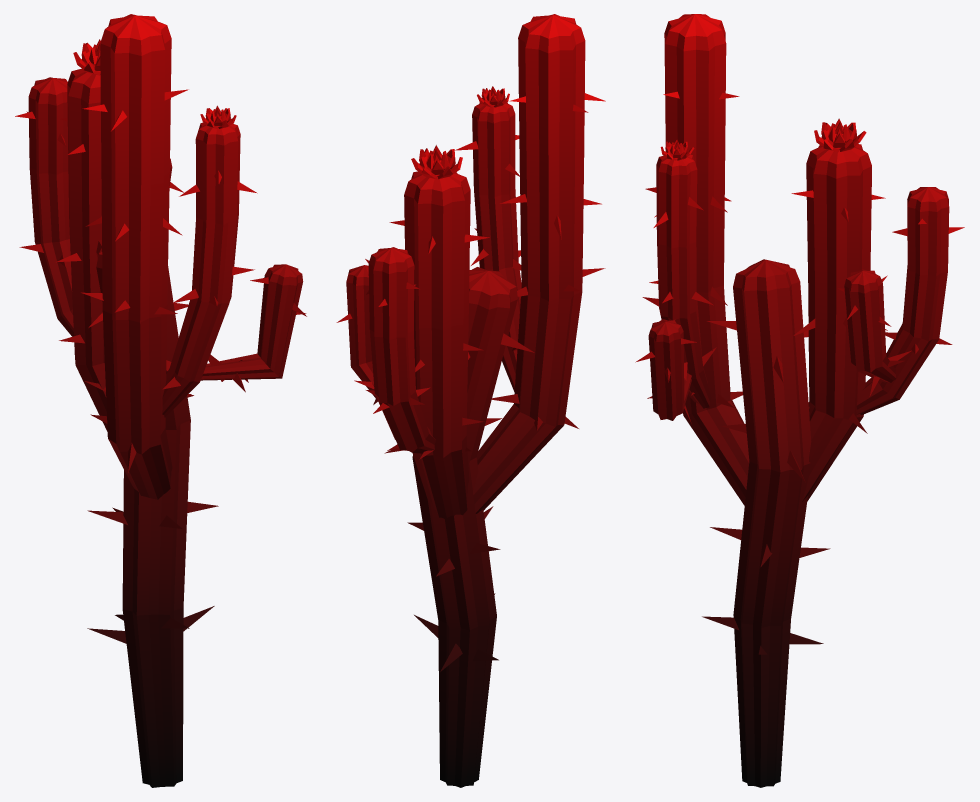
File: TreeCactusTall07.fbx
3 renders of one model, left to right at view 1: azimuth 30°, elevation 25°; view 2: azimuth 150°, elevation 25°; view 3: azimuth 270°, elevation 25°, orthographic. The views are drawn at different scales.
Visible parts, largest first — view 1: TreeCactusTall07_LOD0; view 2: TreeCactusTall07_LOD0; view 3: TreeCactusTall07_LOD0.
Boxes of the visible parts, left/top/right/bottom form: TreeCactusTall07_LOD0: left=15, top=14, right=306, bottom=787; TreeCactusTall07_LOD0: left=336, top=14, right=605, bottom=787; TreeCactusTall07_LOD0: left=635, top=14, right=964, bottom=787.
Size of what is drawn, in the model's own units: 96.21 by 366 by 148.
